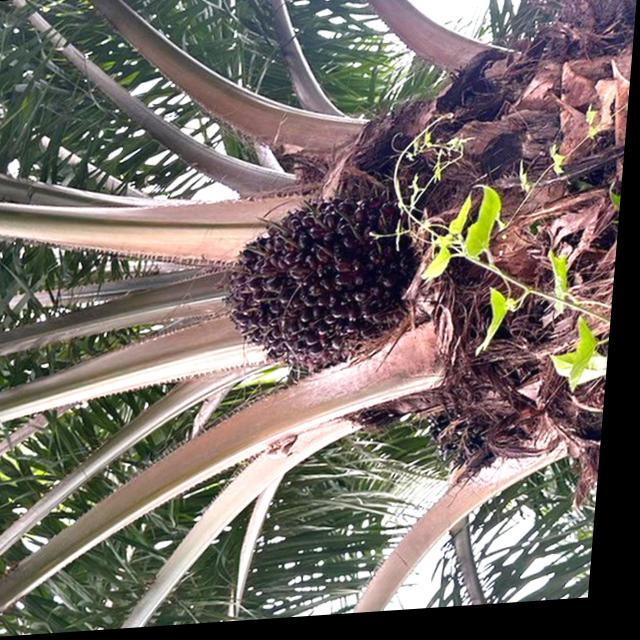ripe: (212, 190, 407, 382)
